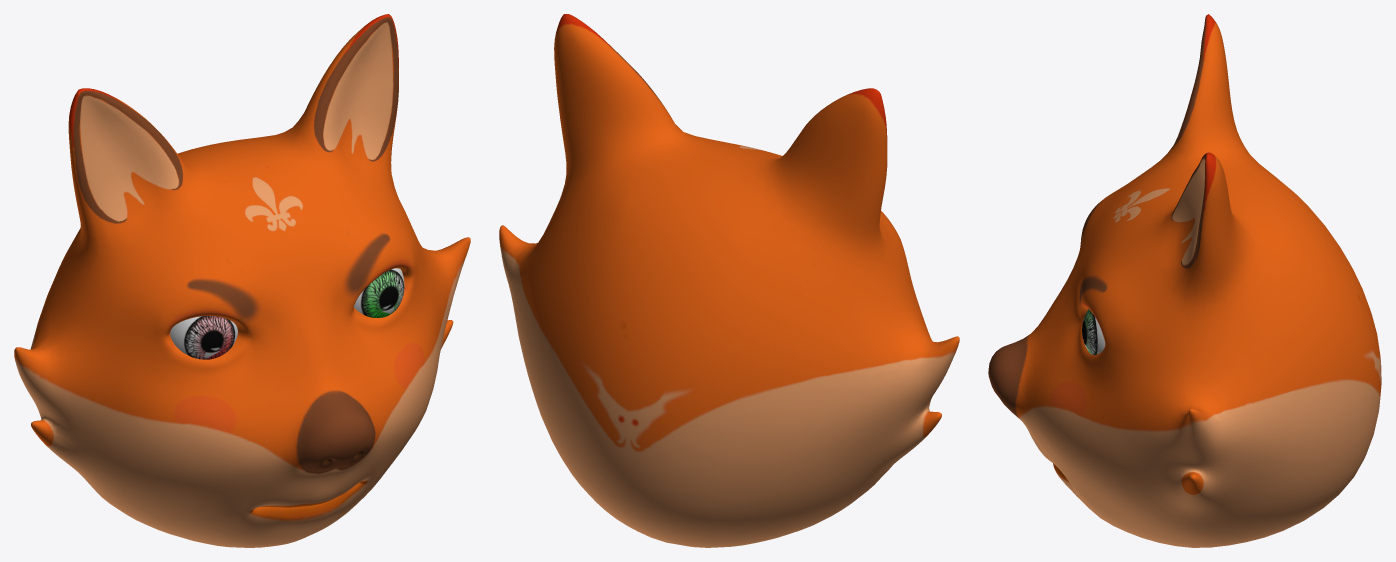
The model's file is fox.glb.
3 renders of one model, left to right at view 1: azimuth 30°, elevation 25°; view 2: azimuth 150°, elevation 25°; view 3: azimuth 270°, elevation 25°, orthographic. The views are drawn at different scales.
Visible parts, largest first — view 1: huliShape, Sphere002:PIV, Sphere001:PIV; view 2: huliShape; view 3: huliShape, Sphere001:PIV.
Boxes of the visible parts, bbox=[...] form: huliShape: bbox=[14, 14, 470, 547]; Sphere002:PIV: bbox=[170, 316, 237, 359]; Sphere001:PIV: bbox=[354, 268, 404, 317]; huliShape: bbox=[499, 14, 959, 547]; huliShape: bbox=[988, 14, 1381, 547]; Sphere001:PIV: bbox=[1082, 309, 1105, 355].
Bounding box in the file's own units: 32.07 × 31.84 × 25.51.
1 material, 1 textured.
